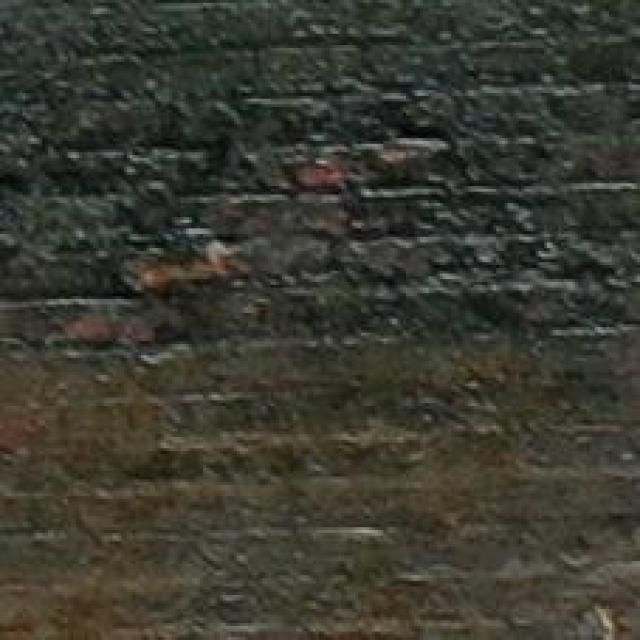Crack: (17, 0, 637, 482)
